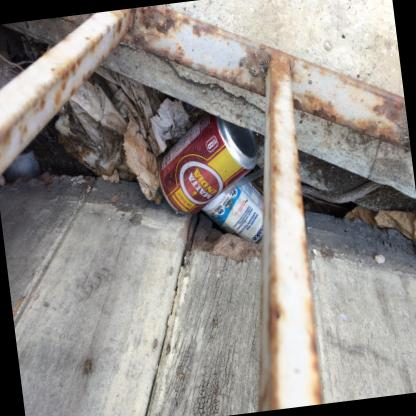Metal: (157, 112, 256, 214)
Paper: (91, 65, 190, 205), (54, 80, 127, 176), (343, 205, 416, 243)
Plastic: (201, 182, 262, 245), (223, 167, 262, 194)
